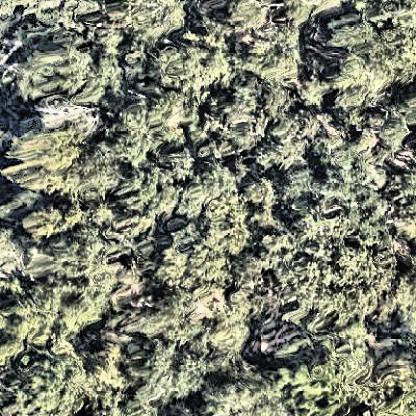tree-top: (276, 217, 385, 325), (316, 1, 416, 112), (281, 342, 380, 415), (29, 229, 121, 305), (119, 158, 235, 217), (10, 45, 106, 107), (11, 342, 90, 416), (165, 225, 248, 295), (5, 124, 79, 196), (194, 84, 270, 154), (128, 344, 208, 404), (267, 103, 325, 169), (154, 39, 223, 92), (74, 146, 131, 209), (105, 1, 188, 44), (139, 289, 200, 345), (248, 22, 301, 84), (104, 102, 152, 162), (202, 377, 275, 416), (371, 354, 416, 416), (205, 1, 272, 42), (199, 313, 254, 361), (31, 99, 106, 133), (1, 298, 45, 346)
